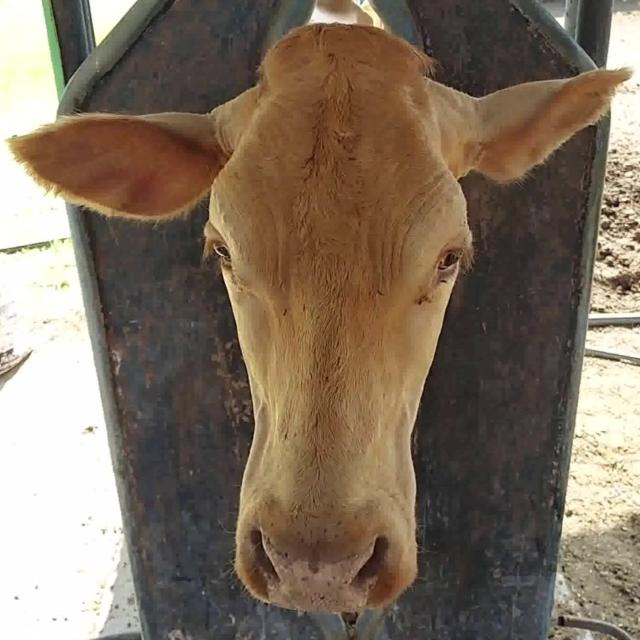cowFace: (204, 19, 473, 612)
